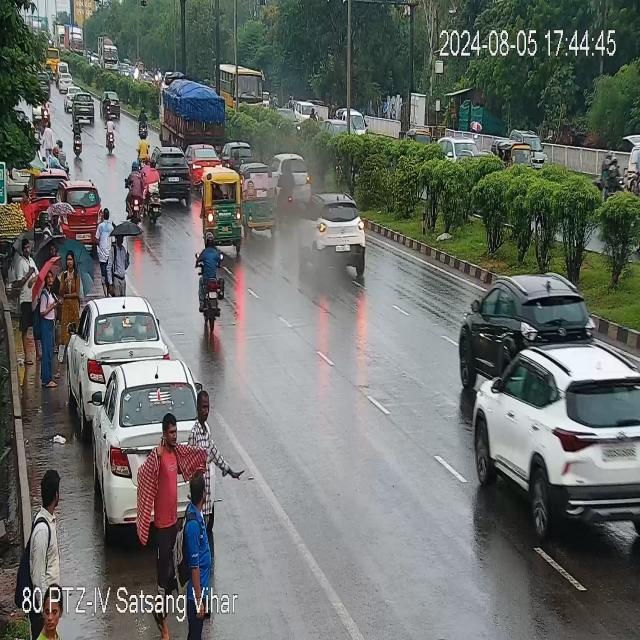2-wheelers: (192, 235, 224, 347), (142, 156, 162, 229), (124, 160, 143, 222), (136, 104, 150, 142), (104, 117, 118, 151)
auto: (210, 171, 244, 250), (240, 166, 278, 234), (490, 130, 536, 180), (404, 123, 432, 156)
bus: (216, 62, 268, 108)
car: (467, 335, 640, 545), (75, 348, 205, 532), (68, 295, 172, 422), (466, 271, 592, 359), (46, 180, 104, 242), (312, 193, 364, 248), (150, 144, 192, 200), (271, 153, 312, 205), (439, 125, 480, 173), (326, 103, 367, 141), (186, 144, 222, 182), (220, 142, 252, 172), (70, 92, 96, 125), (101, 86, 123, 118)
pedestrian: (135, 408, 218, 621), (19, 459, 69, 635), (18, 232, 40, 372), (38, 267, 62, 394), (107, 227, 133, 296), (63, 246, 78, 336)
truck: (163, 80, 230, 157)
